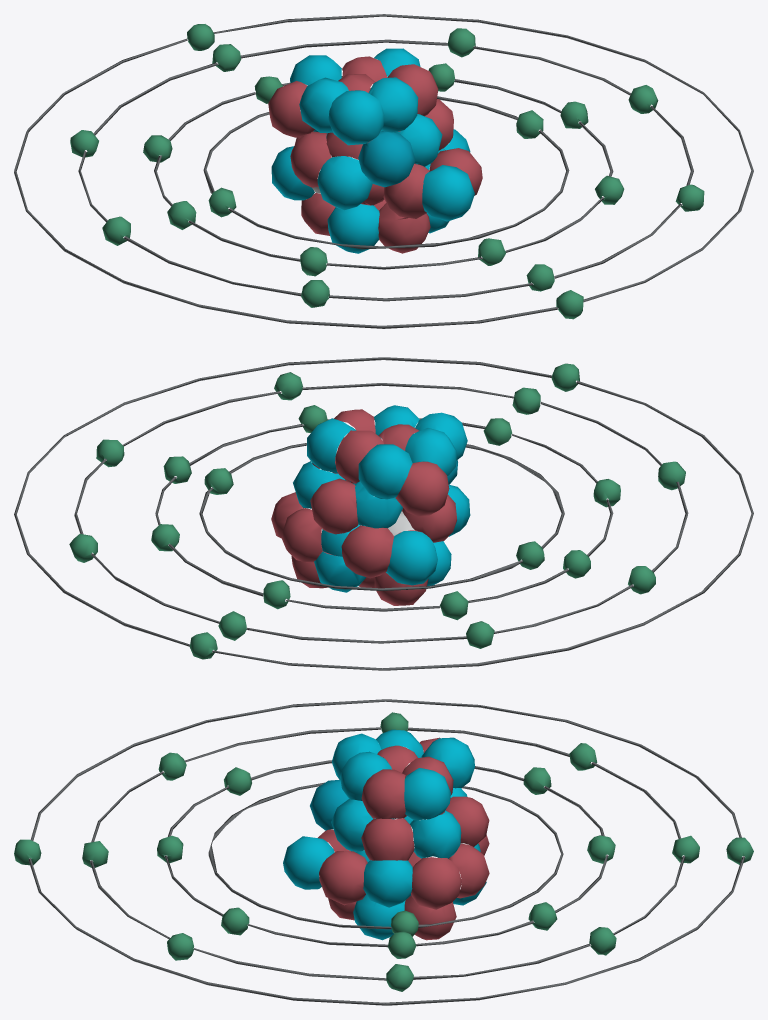
Rendered from calcium.glb.
3 views of the same model, one above another, from view 1: azimuth 30°, elevation 25°; view 2: azimuth 150°, elevation 25°; view 3: azimuth 270°, elevation 25° (orthographic). The views are drawn at different scales.
Visible parts, largest first — view 1: Mesh_Mesh_head_geo.001_lambert2SG.001_0; view 2: Mesh_Mesh_head_geo.001_lambert2SG.001_0; view 3: Mesh_Mesh_head_geo.001_lambert2SG.001_0.
Boxes of the visible parts, <box> form: Mesh_Mesh_head_geo.001_lambert2SG.001_0: <box>14,14,753,328</box>; Mesh_Mesh_head_geo.001_lambert2SG.001_0: <box>14,357,753,670</box>; Mesh_Mesh_head_geo.001_lambert2SG.001_0: <box>14,699,753,1005</box>.
Size of the model in its own units: 2.66 by 0.6622 by 2.74.
